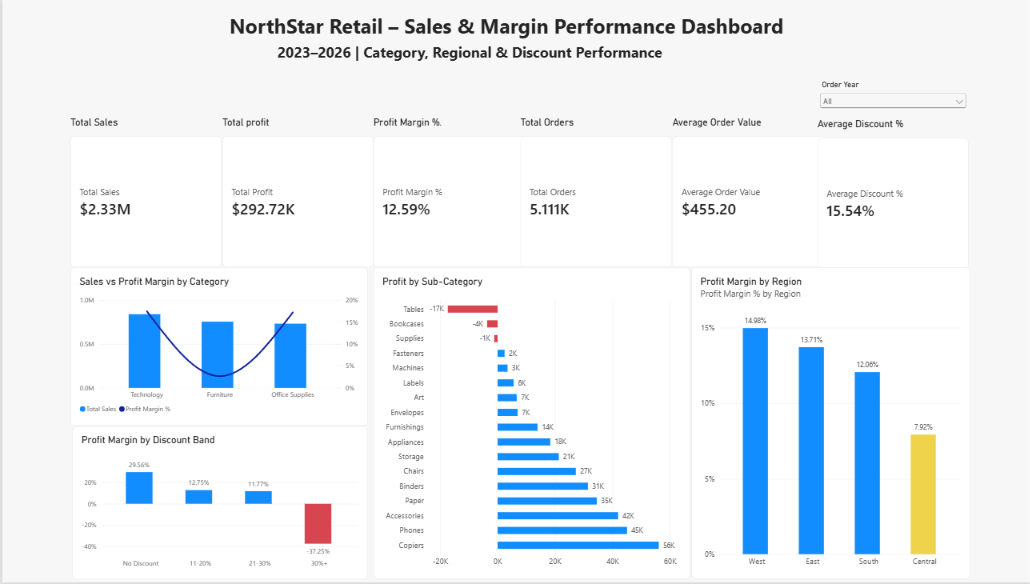

The page's visual inventory and layout, read from the dashboard file:
{"tool":"powerbi","page":{"name":"Dashboard","canvas":[1920,1080],"ordinal":0},"visuals":[{"type":"cardVisual","title":"Total Sales","fields":{"Data":["clean_data.Total Sales"]},"box":[126.7,216.7,280,280],"z":0},{"type":"cardVisual","title":"Total profit","fields":{"Data":["clean_data.Total Profit"]},"box":[406.7,216.7,280,280],"z":1000},{"type":"cardVisual","title":"Profit Margin %.","fields":{"Data":["clean_data.Profit Margin %"]},"box":[686.7,216.7,280,280],"z":2000},{"type":"cardVisual","title":"Total Orders","fields":{"Data":["clean_data.Total Orders"]},"box":[960,216.7,280,280],"z":3000},{"type":"cardVisual","title":"Average Order Value","fields":{"Data":["clean_data.Average Order Value"]},"box":[1240,216.7,280,280],"z":4000},{"type":"cardVisual","title":"Average Discount %","fields":{"Data":["clean_data.Average Discount %"]},"box":[1510,220,280,280],"z":5000},{"type":"lineClusteredColumnComboChart","title":"Sales vs Profit Margin by Category","fields":{"Category":["clean_data.Category"],"Y":["clean_data.Total Sales"],"Y2":["clean_data.Profit Margin %"]},"box":[126.7,496.7,550,293.3],"z":6000},{"type":"clusteredBarChart","title":"Profit by Sub-Category","fields":{"Category":["clean_data.Sub_Category"],"Y":["clean_data.Total Profit"]},"box":[686.7,496.7,586.7,576.7],"z":7000},{"type":"clusteredColumnChart","title":"Profit Margin by Region","fields":{"Category":["clean_data.Region"],"Y":["clean_data.Profit Margin %"]},"box":[1276.7,496.7,516.7,576.7],"z":8000},{"type":"clusteredColumnChart","title":"Profit Margin by Discount Band","fields":{"Category":["clean_data.Discount Band"],"Y":["clean_data.Profit Margin %"]},"box":[130,790,546.7,283.3],"z":9000},{"type":"textbox","box":[100,100,300,300],"z":10000},{"type":"textbox","box":[100,100,300,300],"z":11000},{"type":"textbox","box":[100,100,300,300],"z":12000},{"type":"textbox","box":[250,23.3,1356.7,76.7],"z":13000},{"type":"textbox","box":[510,80,870,70],"z":14000},{"type":"slicer","title":"Select year","fields":{"Values":["clean_data.Order Year"]},"box":[1510,150,281,88],"z":15000}]}

Visuals, with their boxes in screenshot pixels (x1, y1, x2, y2), scaled from the page's 1920x1080 canvas onto the 1030x584 screenshot:
"Total Sales" cardVisual: [x1=68, y1=117, x2=218, y2=269]
"Total profit" cardVisual: [x1=218, y1=117, x2=368, y2=269]
"Profit Margin %." cardVisual: [x1=368, y1=117, x2=519, y2=269]
"Total Orders" cardVisual: [x1=515, y1=117, x2=665, y2=269]
"Average Order Value" cardVisual: [x1=665, y1=117, x2=815, y2=269]
"Average Discount %" cardVisual: [x1=810, y1=119, x2=960, y2=270]
"Sales vs Profit Margin by Category" lineClusteredColumnComboChart: [x1=68, y1=269, x2=363, y2=427]
"Profit by Sub-Category" clusteredBarChart: [x1=368, y1=269, x2=683, y2=580]
"Profit Margin by Region" clusteredColumnChart: [x1=685, y1=269, x2=962, y2=580]
"Profit Margin by Discount Band" clusteredColumnChart: [x1=70, y1=427, x2=363, y2=580]
textbox: [x1=54, y1=54, x2=215, y2=216]
textbox: [x1=54, y1=54, x2=215, y2=216]
textbox: [x1=54, y1=54, x2=215, y2=216]
textbox: [x1=134, y1=13, x2=862, y2=54]
textbox: [x1=274, y1=43, x2=740, y2=81]
"Select year" slicer: [x1=810, y1=81, x2=961, y2=129]
